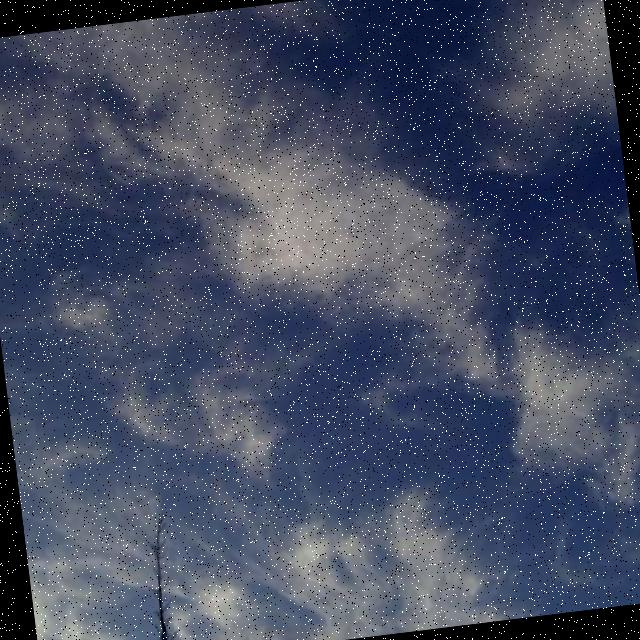Ci: (1, 1, 640, 520)
